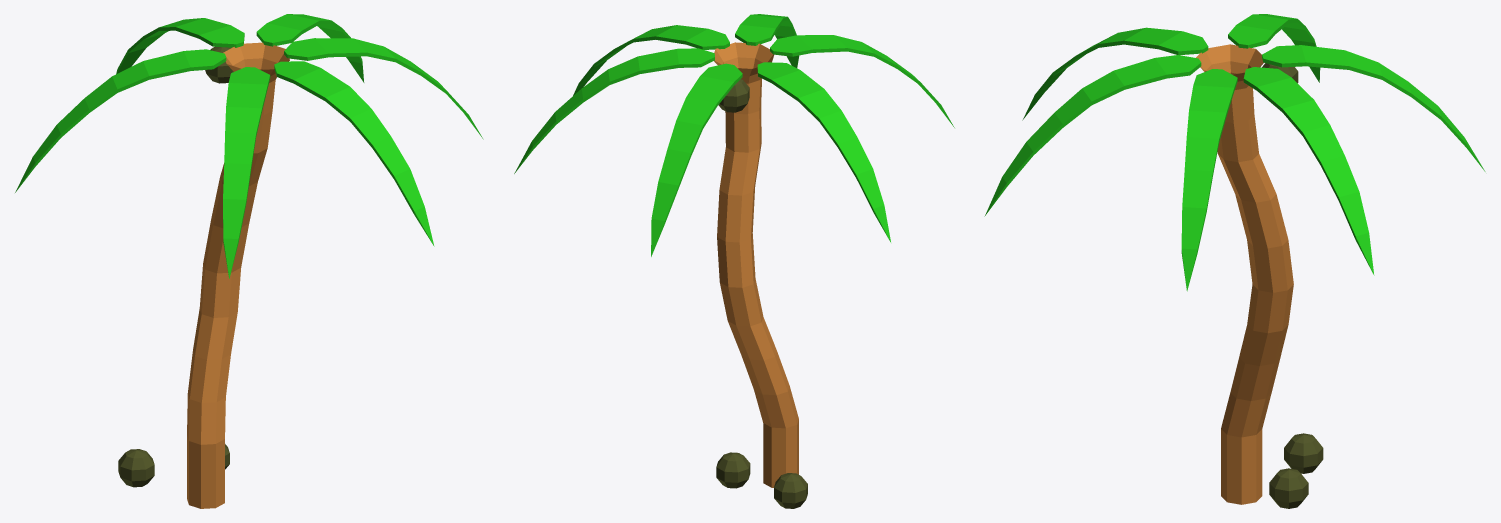
File: Palme.fbx
The picture shows the model from 3 angles, left to right: view 1: azimuth 30°, elevation 25°; view 2: azimuth 150°, elevation 25°; view 3: azimuth 270°, elevation 25°; orthographic projection. The views are drawn at different scales.
Visible parts, largest first — view 1: Core, Lapas5, Lapas6, Lapas1, Lapas4, Lapas2, Lapas3, Kokosas2; view 2: Core, Lapas2, Lapas1, Lapas3, Lapas5, Lapas4, Lapas6, Kokosas1, Kokosas2, Kokosas; view 3: Core, Lapas4, Lapas3, Lapas6, Lapas2, Lapas5, Lapas1, Kokosas1, Kokosas2.
Part boxes in pixels (left/top/right/bottom): Core: left=187, top=42, right=289, bottom=508; Lapas5: left=223, top=67, right=270, bottom=278; Lapas6: left=274, top=61, right=434, bottom=246; Lapas1: left=15, top=49, right=226, bottom=192; Lapas4: left=284, top=38, right=483, bottom=139; Lapas2: left=116, top=18, right=244, bottom=74; Lapas3: left=256, top=14, right=364, bottom=82; Kokosas2: left=118, top=449, right=154, bottom=487; Core: left=714, top=42, right=798, bottom=487; Lapas2: left=651, top=63, right=742, bottom=256; Lapas1: left=757, top=62, right=890, bottom=242; Lapas3: left=514, top=48, right=714, bottom=173; Lapas5: left=770, top=35, right=954, bottom=127; Lapas4: left=573, top=25, right=729, bottom=95; Lapas6: left=735, top=14, right=799, bottom=67; Kokosas1: left=716, top=452, right=750, bottom=488; Kokosas2: left=774, top=473, right=807, bottom=508; Kokosas: left=718, top=79, right=749, bottom=112; Core: left=1196, top=44, right=1293, bottom=504; Lapas4: left=1181, top=69, right=1237, bottom=291; Lapas3: left=1243, top=67, right=1374, bottom=275; Lapas6: left=984, top=55, right=1201, bottom=216; Lapas2: left=1262, top=45, right=1485, bottom=171; Lapas5: left=1022, top=27, right=1208, bottom=120; Lapas1: left=1228, top=14, right=1320, bottom=82; Kokosas1: left=1269, top=468, right=1308, bottom=508; Kokosas2: left=1284, top=433, right=1323, bottom=473.
Bounding box in the file's own units: 2384 × 2462 × 2425.
